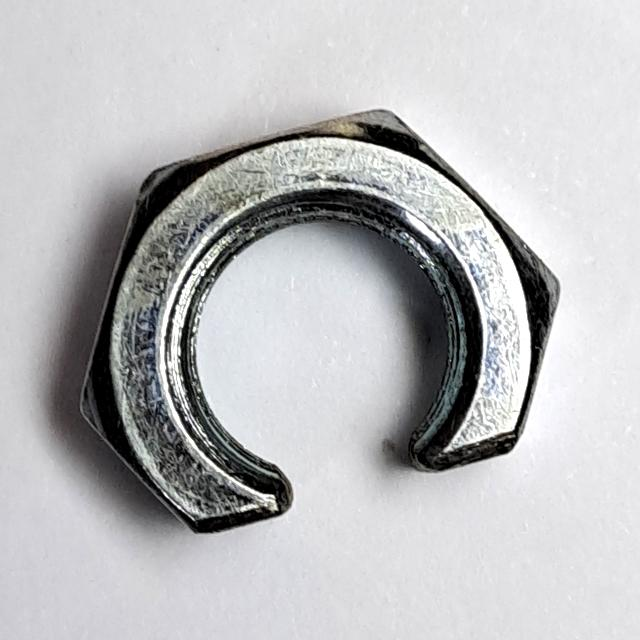Fracture: (66, 96, 572, 561)
